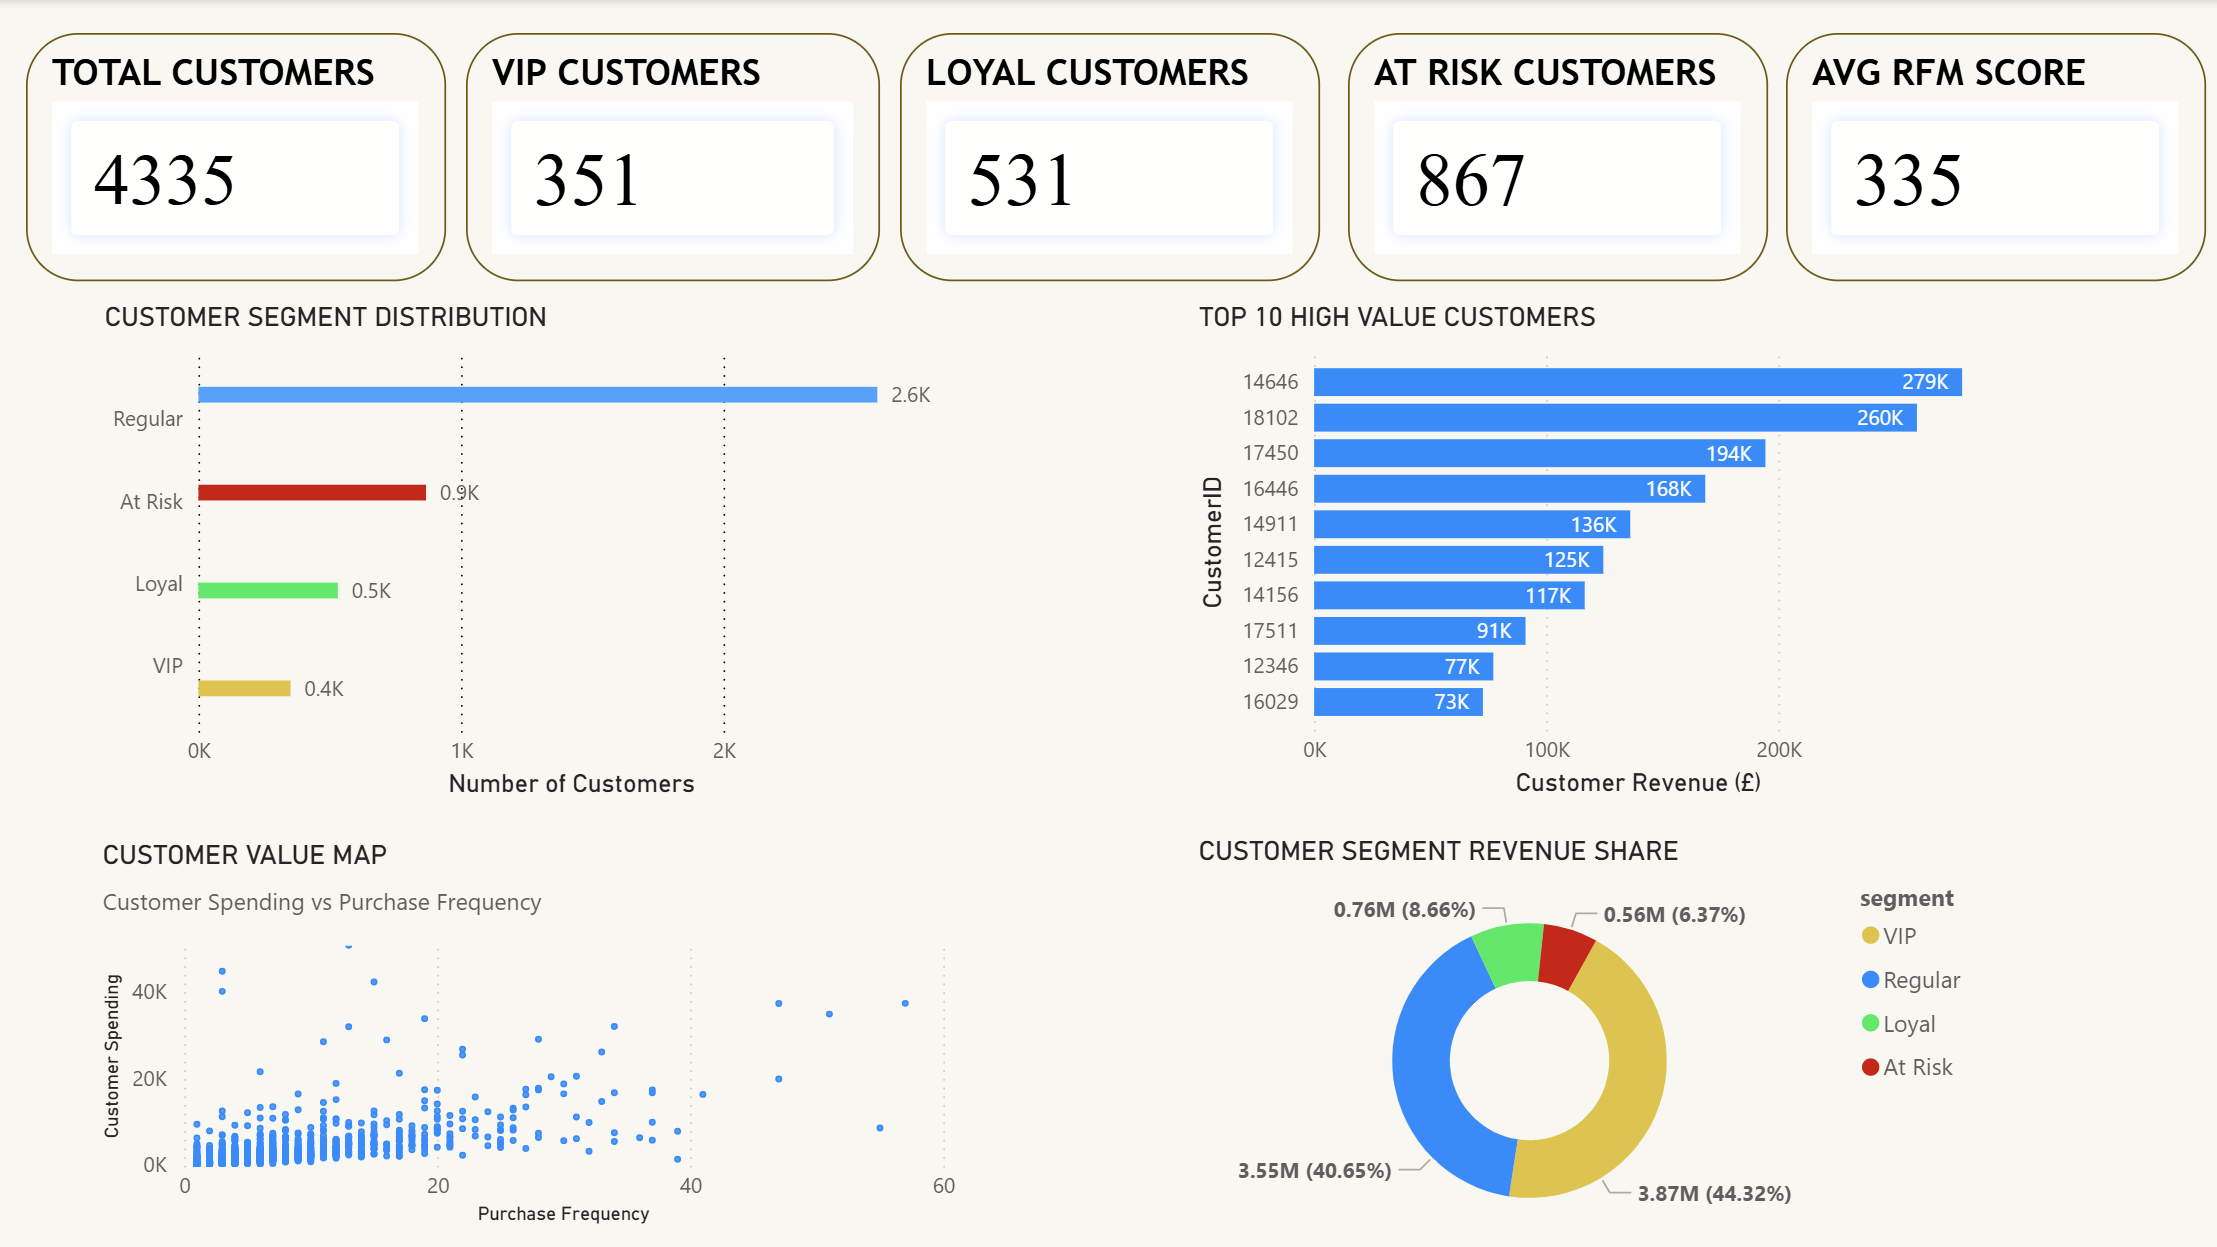

Layout of this report page (visuals, bound fields, positions):
{"tool":"powerbi","page":{"name":"Customer Segmentation Analysis","canvas":[1280,720],"ordinal":1},"visuals":[{"type":"clusteredBarChart","title":"CUSTOMER SEGMENT DISTRIBUTION","fields":{"Category":["rfm_data.segment"],"Y":["Count(rfm_data.CustomerID)"],"Series":["rfm_data.segment"]},"box":[54.8,173.4,501,290.7],"z":0},{"type":"scatterChart","title":"CUSTOMER VALUE MAP","fields":{"Y":["rfm_data.monetary"],"X":["rfm_data.frequency"]},"box":[54.7,483.7,501.2,226.7],"z":1000},{"type":"donutChart","title":"CUSTOMER SEGMENT REVENUE SHARE","fields":{"Category":["rfm_data.segment"],"Y":["Sum(rfm_data.monetary)"]},"box":[684.9,481.4,465.1,238.4],"z":2000},{"type":"clusteredBarChart","title":"TOP 10 HIGH VALUE CUSTOMERS","fields":{"Category":["rfm_data.CustomerID"],"Y":["Sum(rfm_data.monetary)"]},"box":[685,173.8,463.8,290],"z":3000},{"type":"cardVisual","title":"TOTAL CUSTOMERS","fields":{"Data":["Count(feature_data.CustomerID)"]},"box":[15.1,19.8,241.9,143],"z":4000},{"type":"cardVisual","title":"VIP CUSTOMERS","fields":{"Data":["rfm_data.VIP Customers"]},"box":[268.6,19.8,238.4,143],"z":5000},{"type":"cardVisual","title":"LOYAL CUSTOMERS","fields":{"Data":["rfm_data.Loyal Customers"]},"box":[518.6,19.8,241.9,143],"z":6000},{"type":"cardVisual","title":"AT RISK CUSTOMERS","fields":{"Data":["rfm_data.At Risk Customers"]},"box":[776.7,19.8,241.9,143],"z":7000},{"type":"cardVisual","title":"AVG RFM SCORE","fields":{"Data":["rfm_data.Average RFM Score"]},"box":[1029.1,19.8,241.9,143],"z":8000}]}

Visuals, with their boxes in screenshot pixels (x1, y1, x2, y2), scaled from the page's 1280x720 canvas onto the 2217x1247 screenshot:
"CUSTOMER SEGMENT DISTRIBUTION" clusteredBarChart: BBox(95, 300, 963, 804)
"CUSTOMER VALUE MAP" scatterChart: BBox(95, 838, 963, 1230)
"CUSTOMER SEGMENT REVENUE SHARE" donutChart: BBox(1186, 834, 1992, 1246)
"TOP 10 HIGH VALUE CUSTOMERS" clusteredBarChart: BBox(1186, 301, 1990, 803)
"TOTAL CUSTOMERS" cardVisual: BBox(26, 34, 445, 282)
"VIP CUSTOMERS" cardVisual: BBox(465, 34, 878, 282)
"LOYAL CUSTOMERS" cardVisual: BBox(898, 34, 1317, 282)
"AT RISK CUSTOMERS" cardVisual: BBox(1345, 34, 1764, 282)
"AVG RFM SCORE" cardVisual: BBox(1782, 34, 2201, 282)
